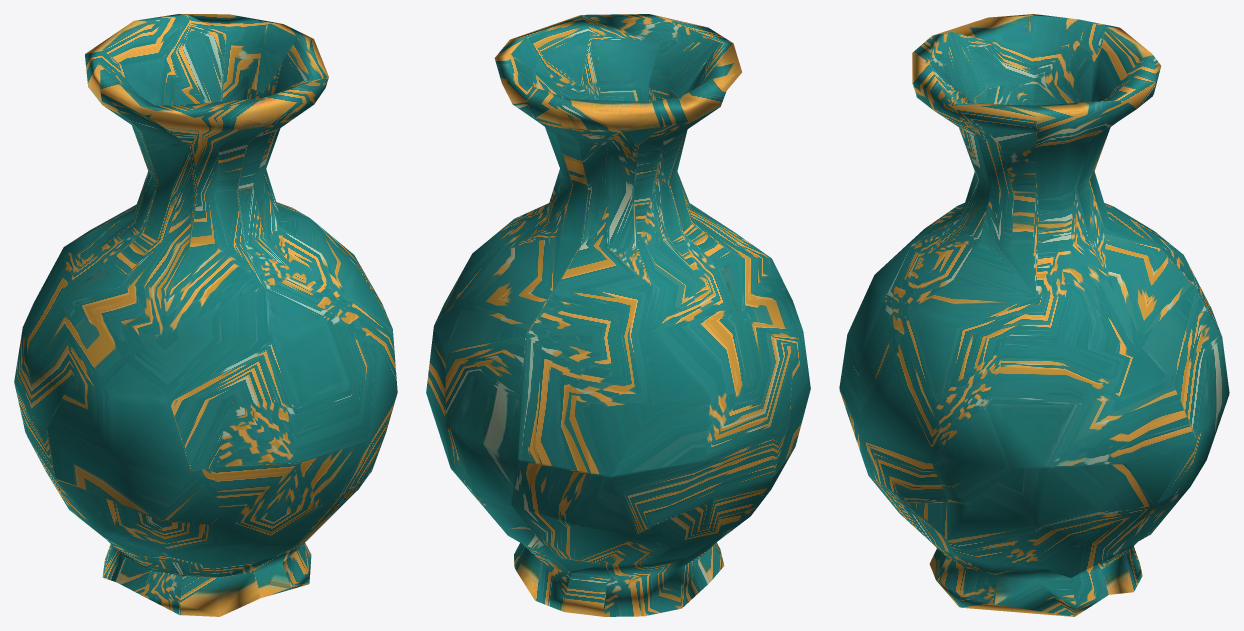
The model's file is vase_teal.glb.
3 renders of one model, left to right at view 1: azimuth 30°, elevation 25°; view 2: azimuth 150°, elevation 25°; view 3: azimuth 270°, elevation 25°, orthographic.
Size of the model in its own units: 0.6435 by 0.9517 by 0.6533.
Materials: 1 (1 with a texture image).
